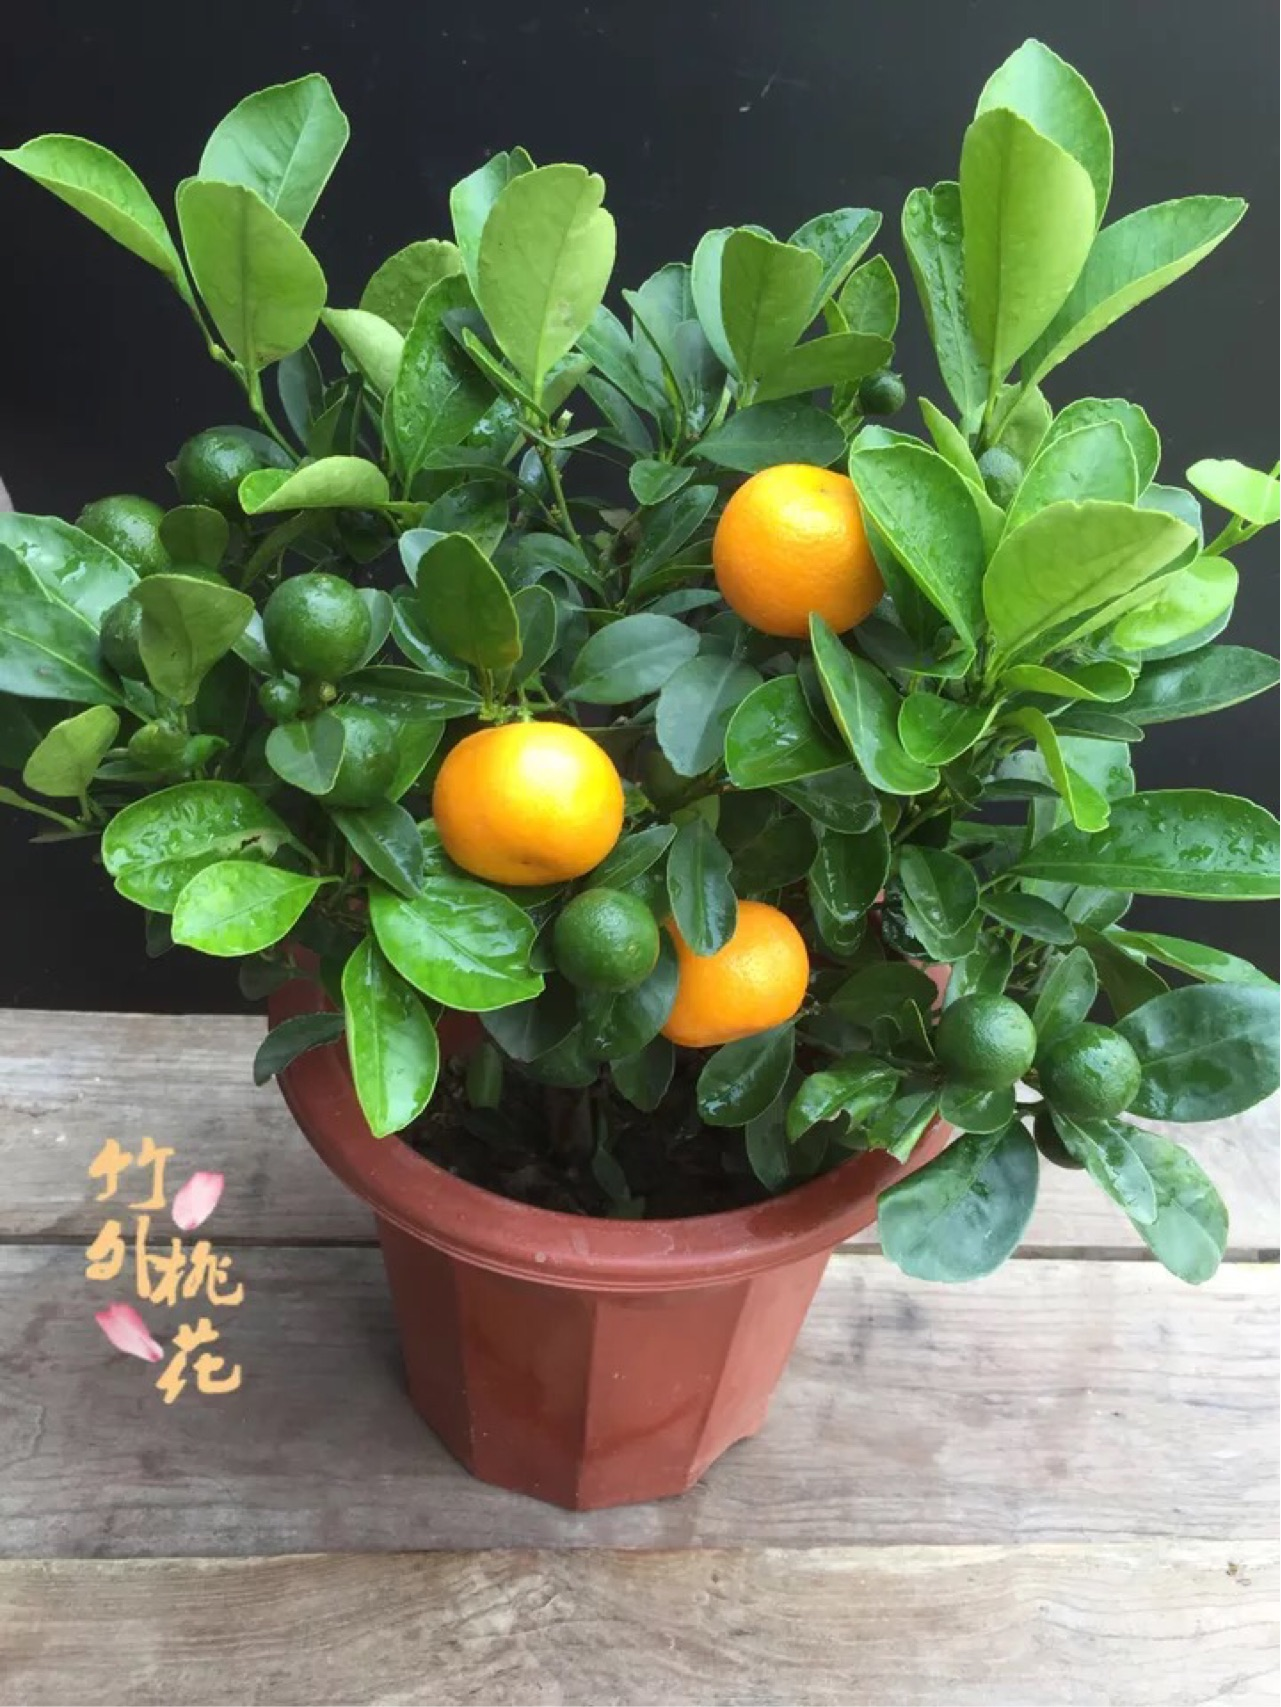orange: (706, 464, 885, 643), (432, 720, 623, 886), (630, 892, 810, 1056)
